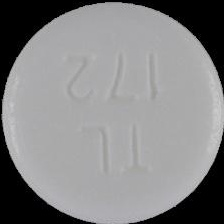59746-172: (0, 0, 224, 224)
